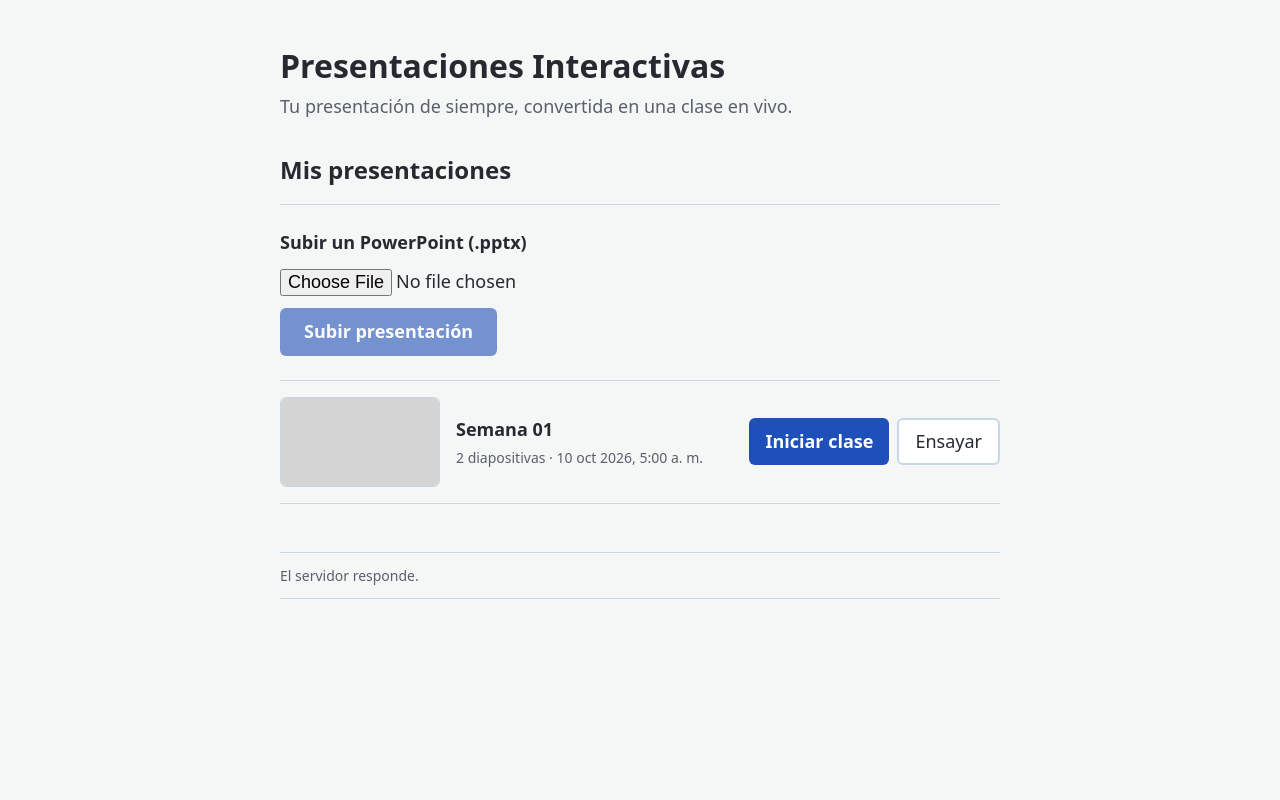
Scenario: "Ensayar" opens the presenter view of that presentation, with no students
Click the link with aria-label "Ensayar Semana 01".
click(949, 442)  # box [897, 418, 1000, 465]
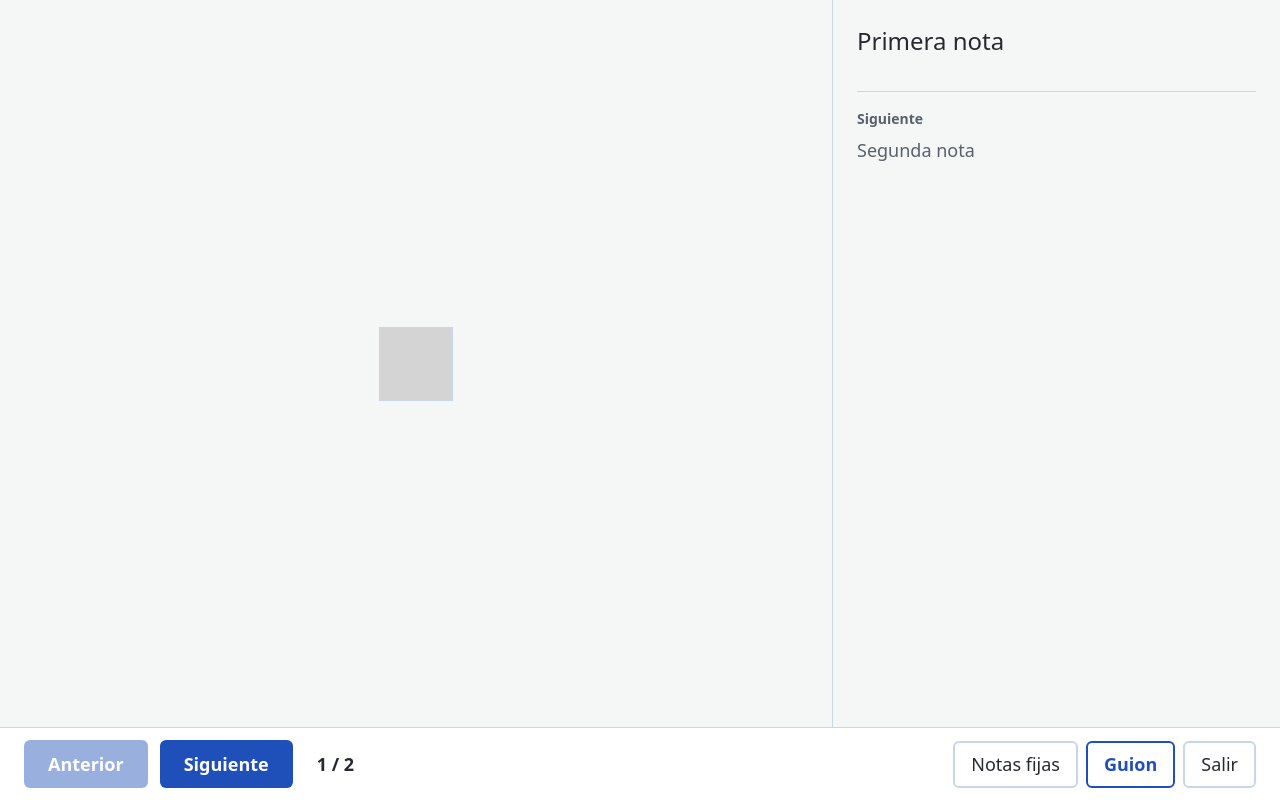
Check: the element named "Guion" shows "Primera nota", box [857, 24, 1004, 57]
